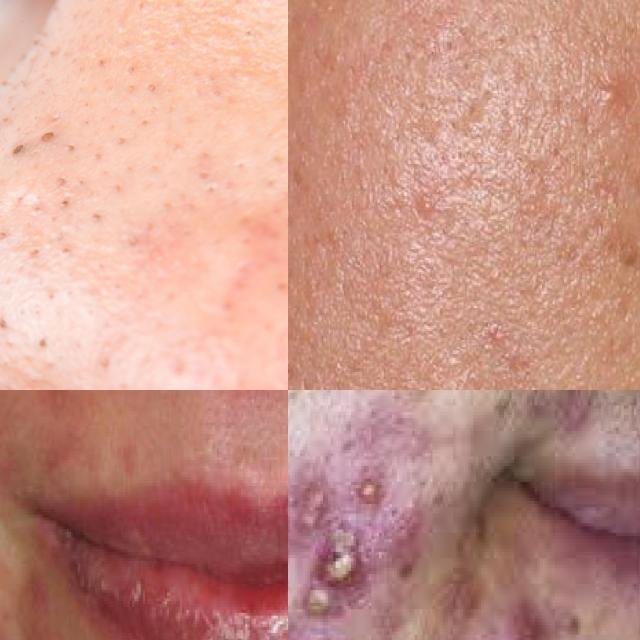comedone: (36, 126, 66, 148), (6, 142, 27, 165)
crystanlline: (288, 443, 430, 593)
cystic: (473, 587, 603, 640)
